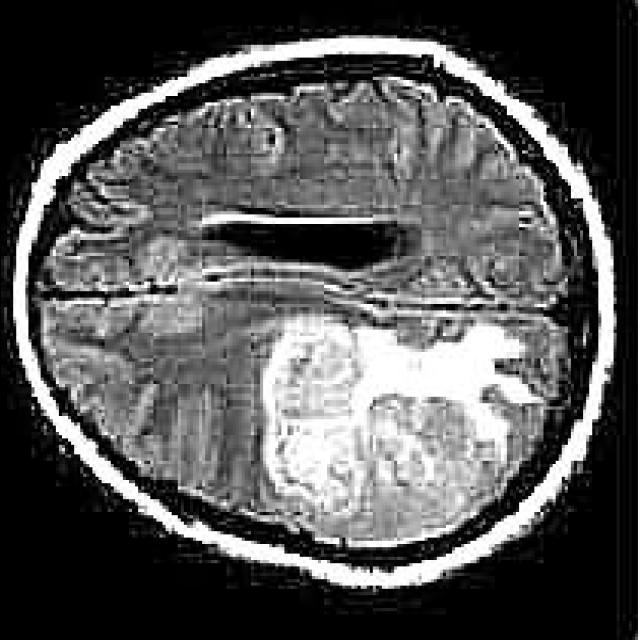tumor: (251, 312, 544, 525)
